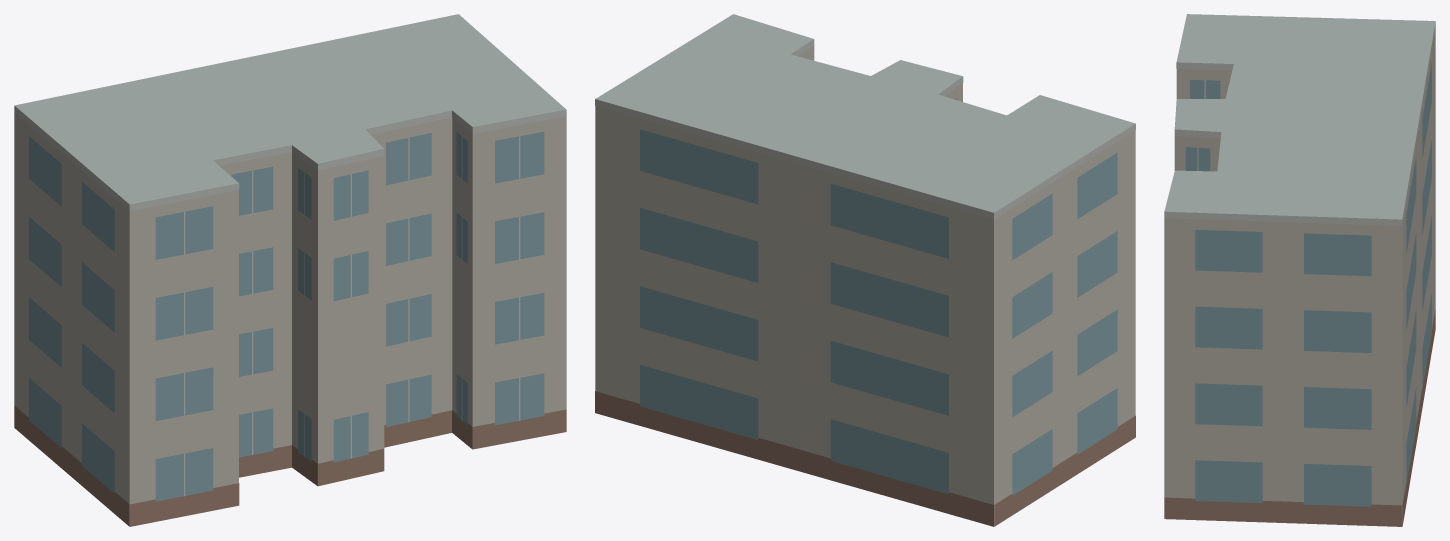
File: survey-upis-32758154.glb
The picture shows the model from 3 angles, left to right: view 1: azimuth 30°, elevation 25°; view 2: azimuth 150°, elevation 25°; view 3: azimuth 270°, elevation 25°; orthographic projection. The views are drawn at different scales.
Parts seen in each view (by area): view 1: survey-upis-32758154.tmp; view 2: survey-upis-32758154.tmp; view 3: survey-upis-32758154.tmp.
Boxes of the visible parts, box(x1,y1,x2,y2) form: survey-upis-32758154.tmp: box(14, 14, 566, 526); survey-upis-32758154.tmp: box(595, 14, 1135, 526); survey-upis-32758154.tmp: box(1164, 14, 1435, 526).
Size of the model in its own units: 16.65 by 11.6 by 9.29.
